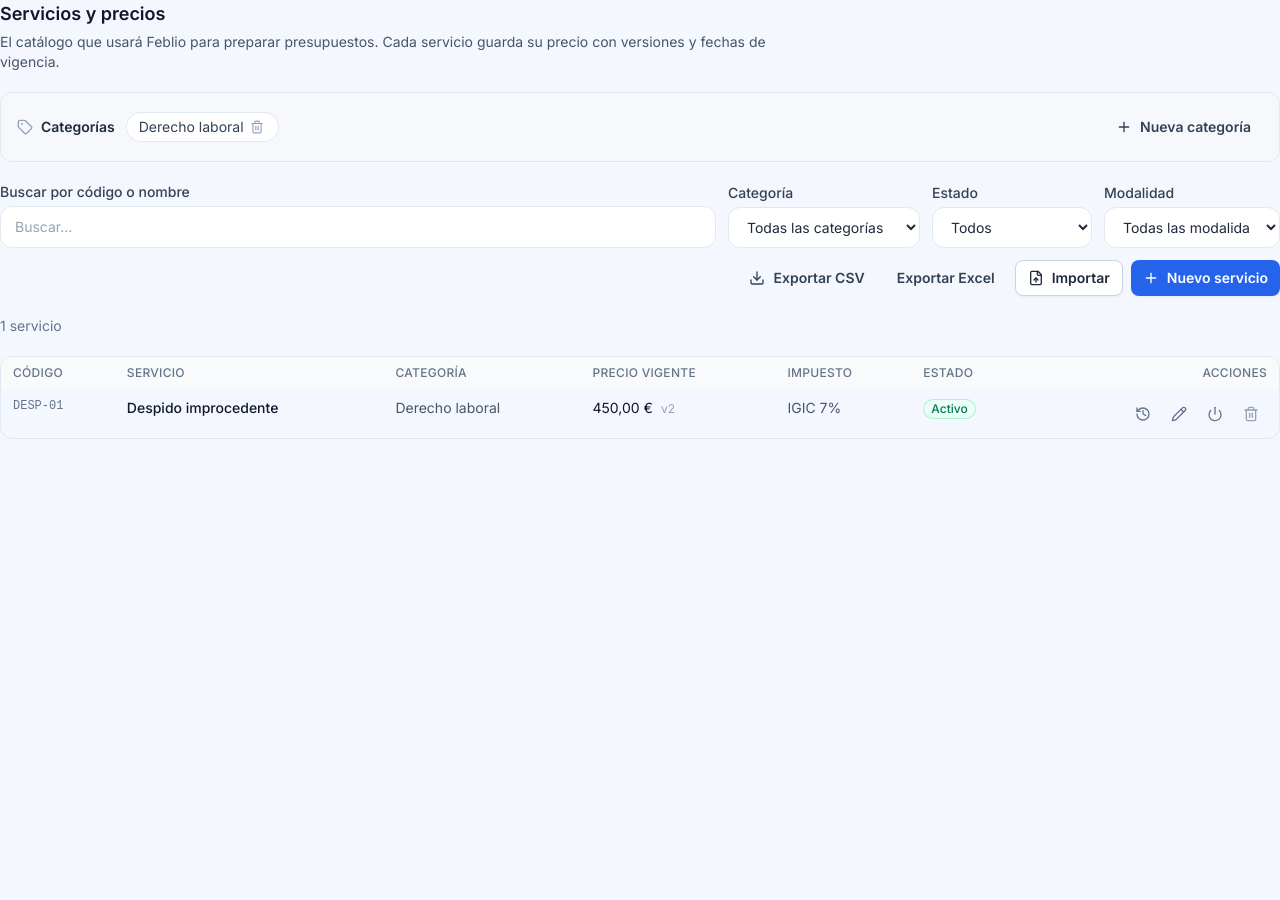
Test: catálogo de servicios (paso y pestaña) › un servicio ya utilizado avisa de que solo puede desactivarse
The width and height of the screenshot is (1280, 900).
Check: the text "Despido improcedente" is shown, box x1=127 y1=399 x2=278 y2=416
Click the button named "Eliminar". click: [1251, 414]
box: x1=1235 y1=398 x2=1267 y2=430
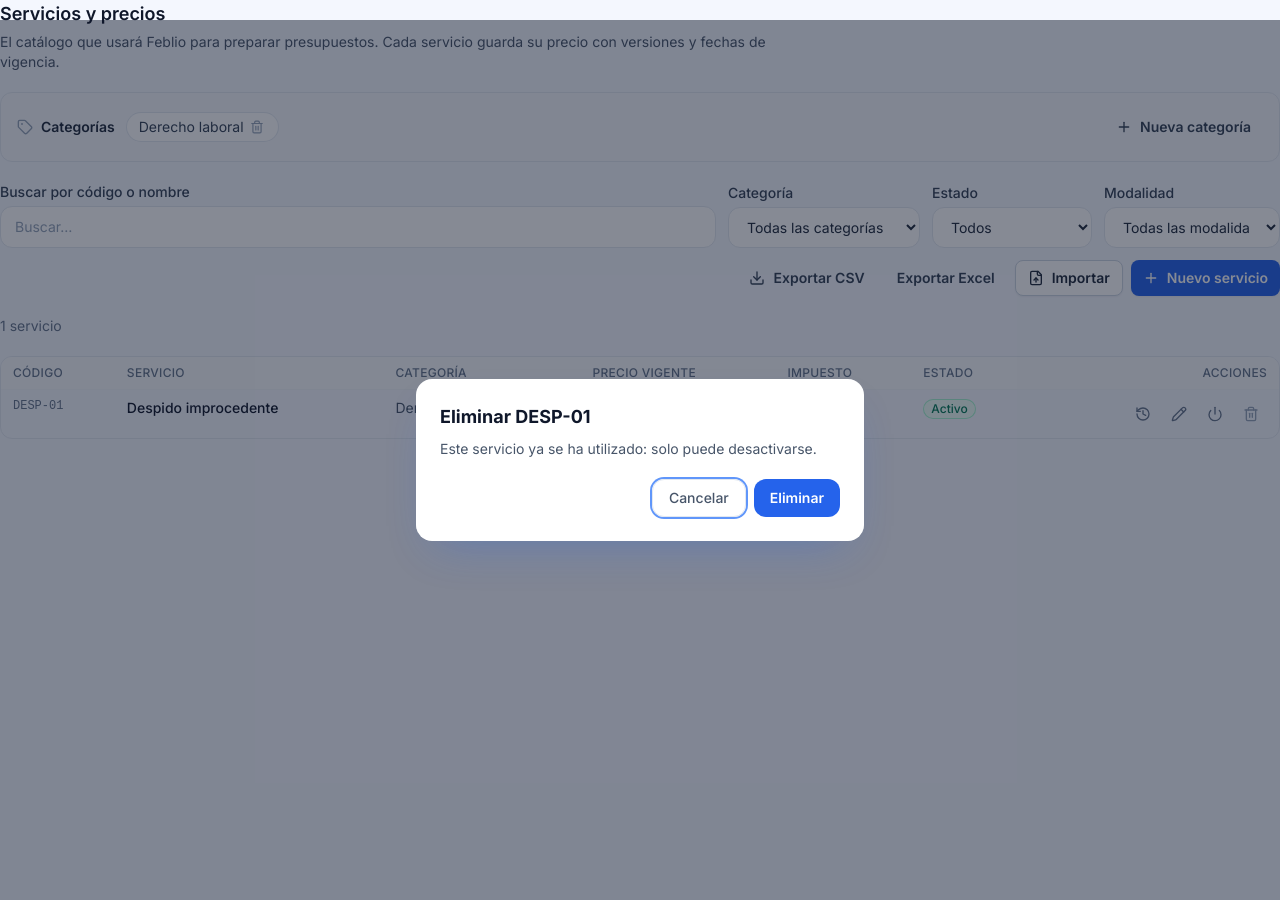
Check: the text "Este servicio ya se ha utilizado: solo puede desactivarse." is shown, box x1=440 y1=439 x2=840 y2=459
